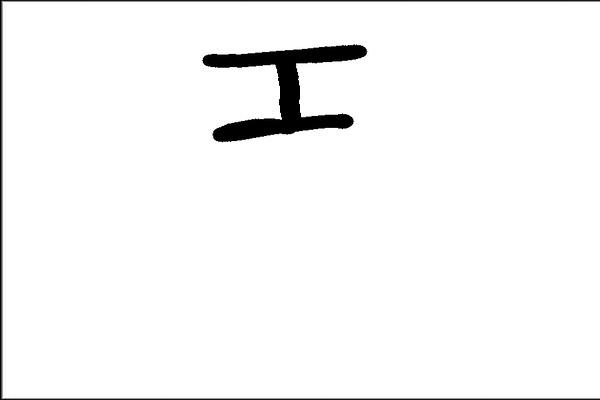i: (194, 37, 369, 146)
